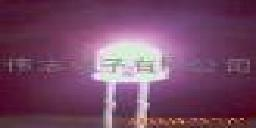LED: (92, 39, 170, 128)
